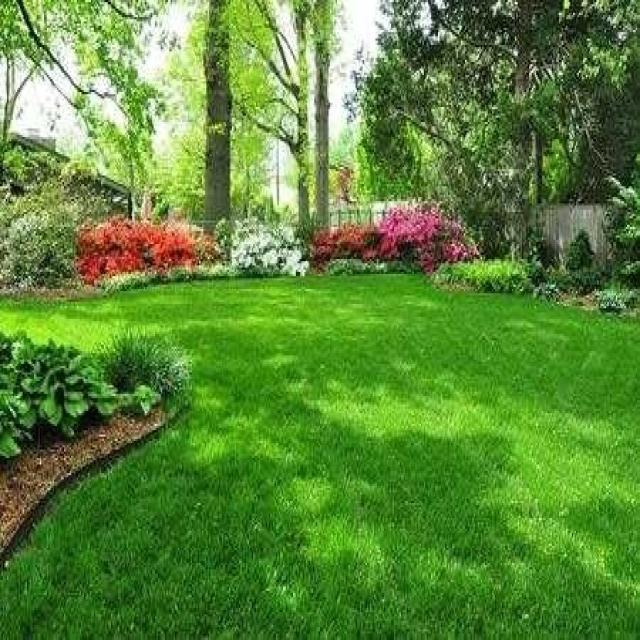lawn: (0, 275, 640, 640)
